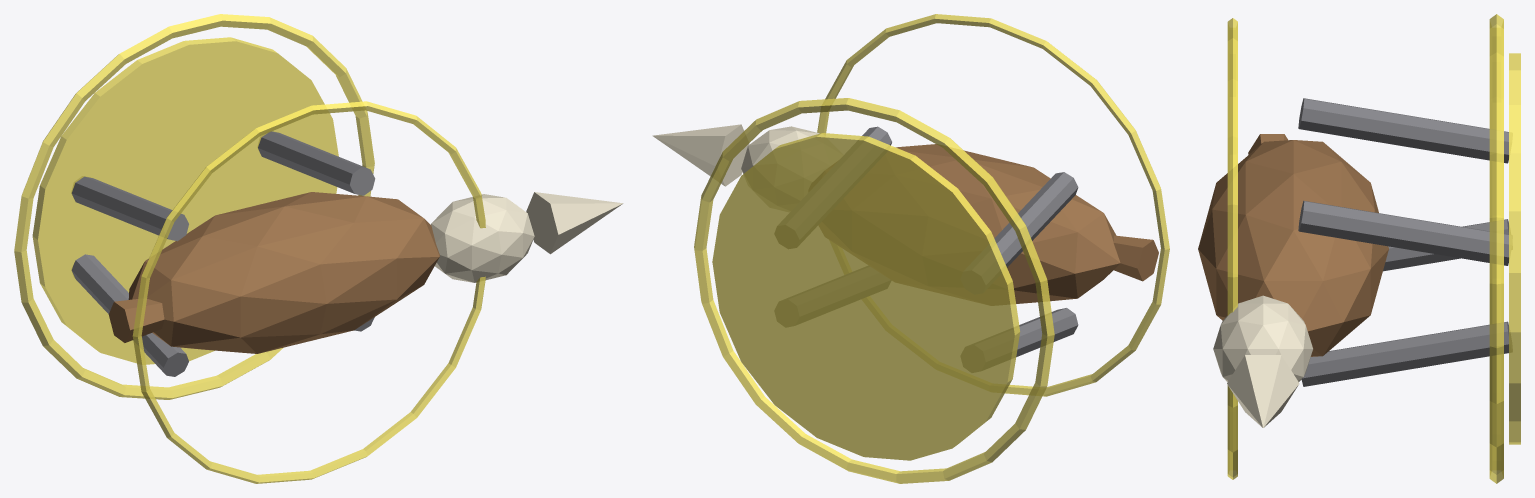
The model's file is cave_bat_proxy.glb.
3 renders of one model, left to right at view 1: azimuth 30°, elevation 25°; view 2: azimuth 150°, elevation 25°; view 3: azimuth 270°, elevation 25°, orthographic. The views are drawn at different scales.
Parts seen in each view (by area): view 1: marker_disc, body, marker_ring, pounce_arc, head, leg_3, snout, leg_1, leg_0, tail; view 2: marker_disc, marker_ring, body, pounce_arc, snout, leg_1, tail, leg_0, head; view 3: body, marker_ring, leg_1, leg_3, leg_2, head, marker_disc, pounce_arc, snout, leg_0.
Part boxes in pixels (x1,y1,x2,y2): marker_disc: (32,37,338,364); body: (128,192,439,353); marker_ring: (14,14,374,399); pounce_arc: (132,101,485,483); head: (431,194,534,282); leg_3: (258,131,375,195); snout: (526,192,623,254); leg_1: (71,176,188,241); leg_0: (71,254,188,376); tail: (108,298,164,342); marker_disc: (712,133,1020,460); marker_ring: (694,98,1054,483); body: (895,144,1120,303); pounce_arc: (817,14,1169,396); snout: (652,124,749,186); leg_1: (994,172,1078,267); tail: (1113,235,1158,281); leg_0: (1016,308,1078,356); head: (741,126,819,173); body: (1198,140,1388,356); marker_ring: (1489,14,1503,483); leg_1: (1298,98,1508,163); leg_3: (1298,200,1508,265); leg_2: (1301,321,1508,386); head: (1213,295,1312,381); marker_disc: (1509,53,1520,444); pounce_arc: (1227,18,1237,479); snout: (1227,355,1299,427); leg_0: (1383,219,1508,271).
Size of the model in its own units: 2.17 by 1.54 by 1.07.
